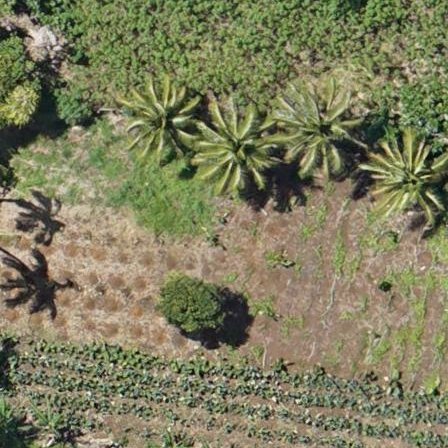palm_tree: (190, 102, 271, 188), (280, 88, 352, 164), (371, 135, 443, 211), (126, 79, 196, 154)
